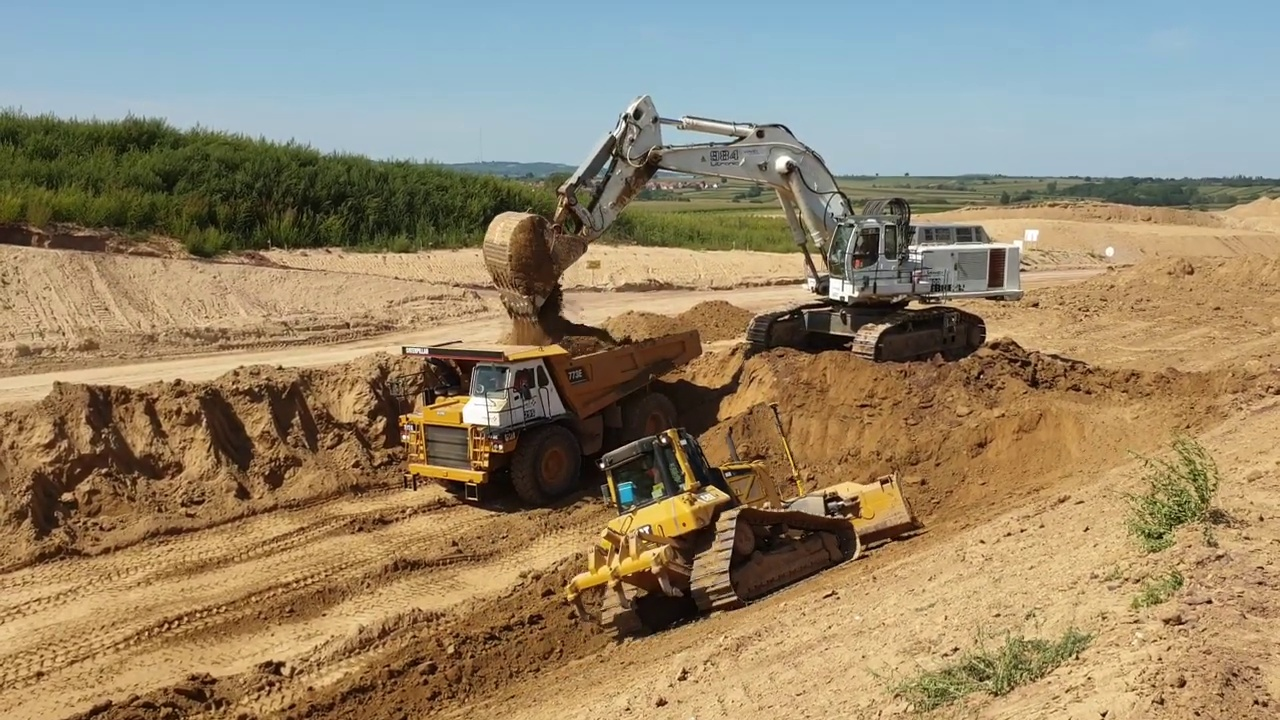bulldozer: (566, 400, 929, 645)
excavator: (476, 89, 1028, 365)
truck: (401, 330, 709, 513)
